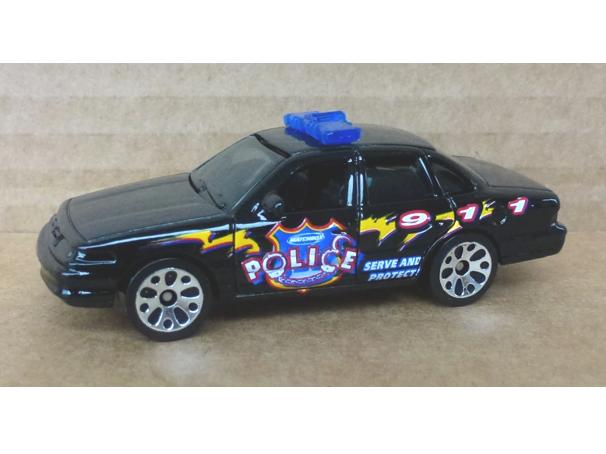toy-car: (36, 110, 569, 342)
